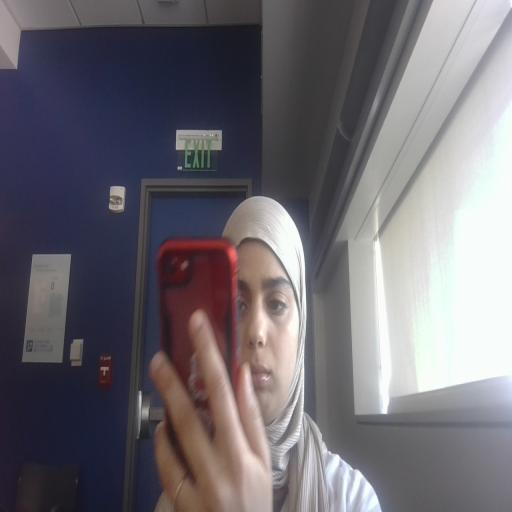phone: (138, 200, 297, 472)
